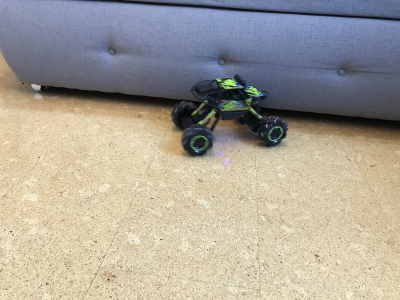remote control car: (170, 69, 289, 158)
